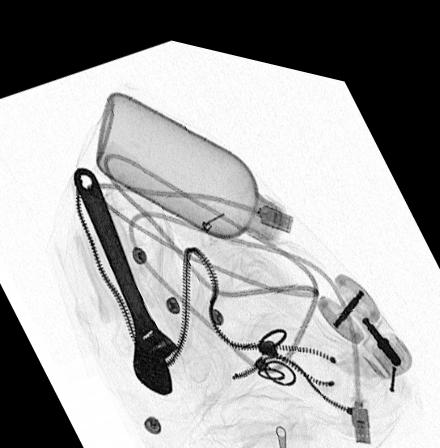Wrench: (72, 160, 179, 387)
